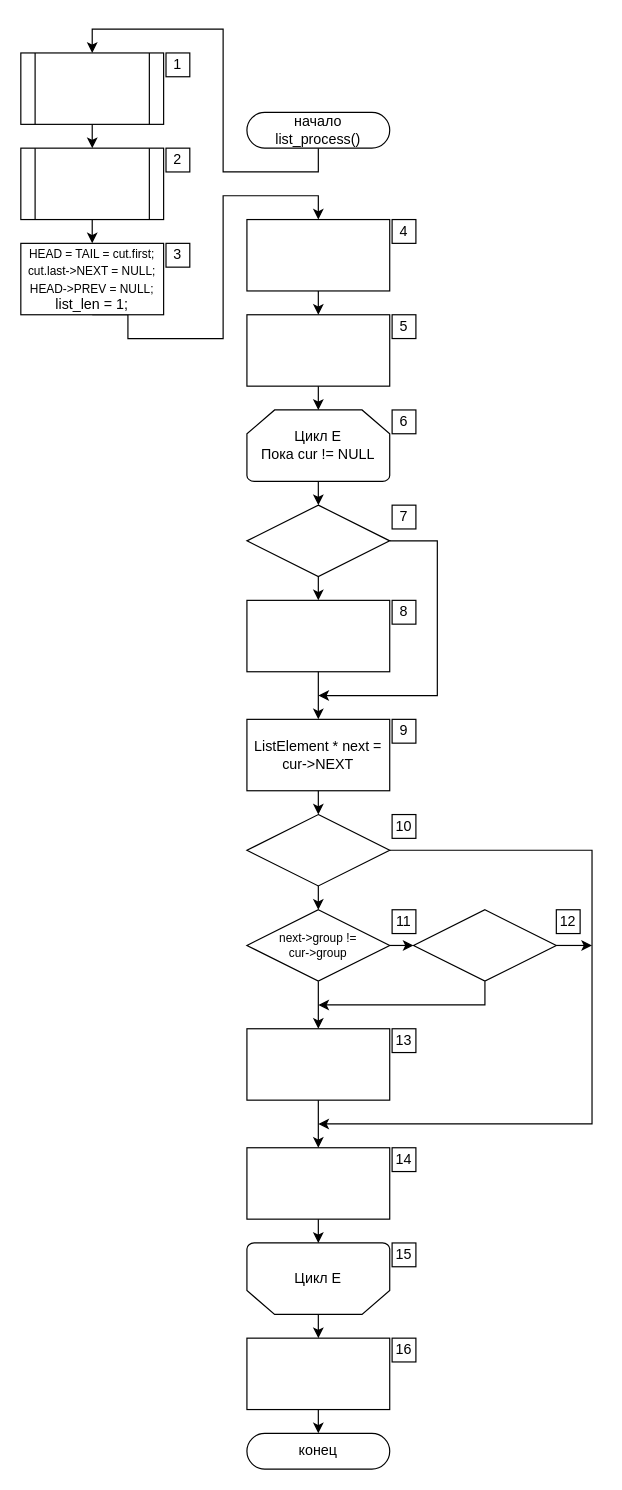
The diagram is 622 pixels wide and 1490 high, and some of its shapes have lost their labels. Each missing label, with the box of its shape:
char i = 1; ListElement * cur = HEAD->NEXT: (246, 314, 390, 386)
connect(TAIL, cur); TAIL = cur; list_len++; i++: (246, 599, 390, 672)
cur = next: (246, 1147, 390, 1219)
Cut cut = recursion (HEAD, list_len);: (20, 147, 164, 220)
field_offset = offsetof(ListElement, data); compare_func = list_process_cmp;: (246, 218, 390, 291)
i < 5: (246, 504, 390, 577)
i = 0: (246, 1028, 390, 1100)
list_copy_to_search_layer(); link_layer = SEARCH;: (20, 52, 164, 124)
next: (246, 813, 390, 886)
next->gender != cur->gender: (412, 909, 556, 981)
TAIL->NEXT = NULL: (246, 1337, 390, 1410)
